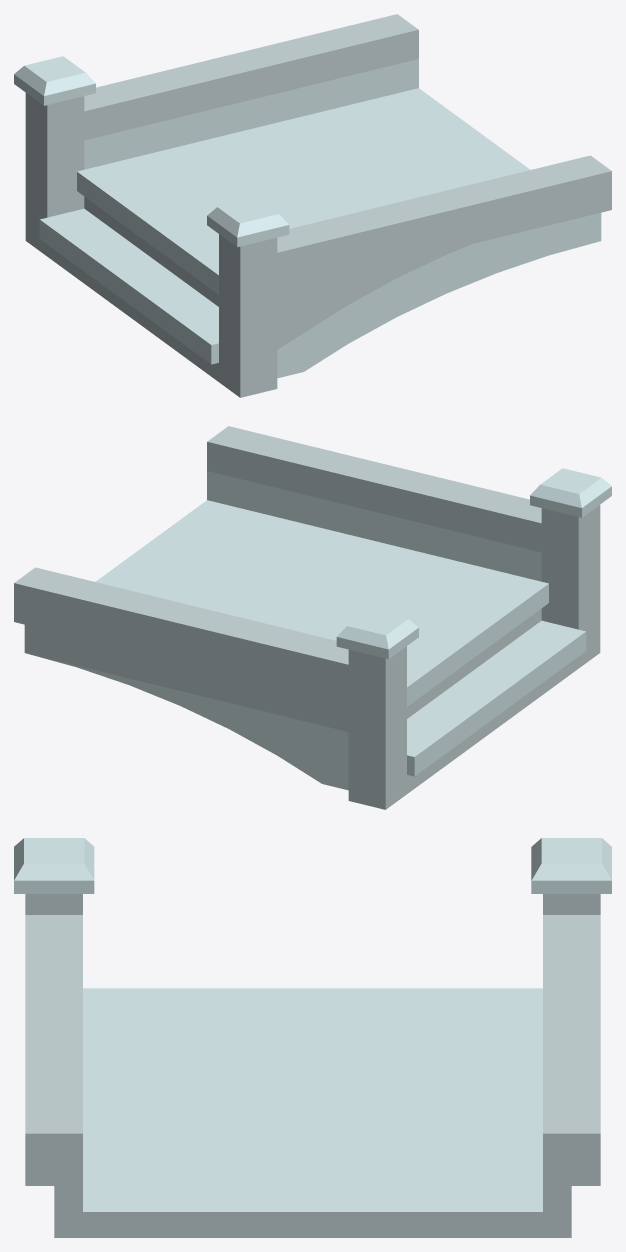
Rendered from bridge_side_stoneRound.glb.
The picture shows the model from 3 angles, top to bottom: view 1: azimuth 30°, elevation 25°; view 2: azimuth 150°, elevation 25°; view 3: azimuth 270°, elevation 25°; orthographic projection. The views are drawn at different scales.
Visible parts, largest first — view 1: bridge_side_stoneRound; view 2: bridge_side_stoneRound; view 3: bridge_side_stoneRound.
Boxes of the visible parts, x1,y1,x2,y2 form: bridge_side_stoneRound: (14,14,611,397); bridge_side_stoneRound: (14,426,611,809); bridge_side_stoneRound: (14,838,611,1237).
Size of the model in its own units: 1.02 by 0.45 by 1.04.
